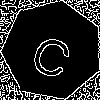C: (27, 25, 80, 82)
